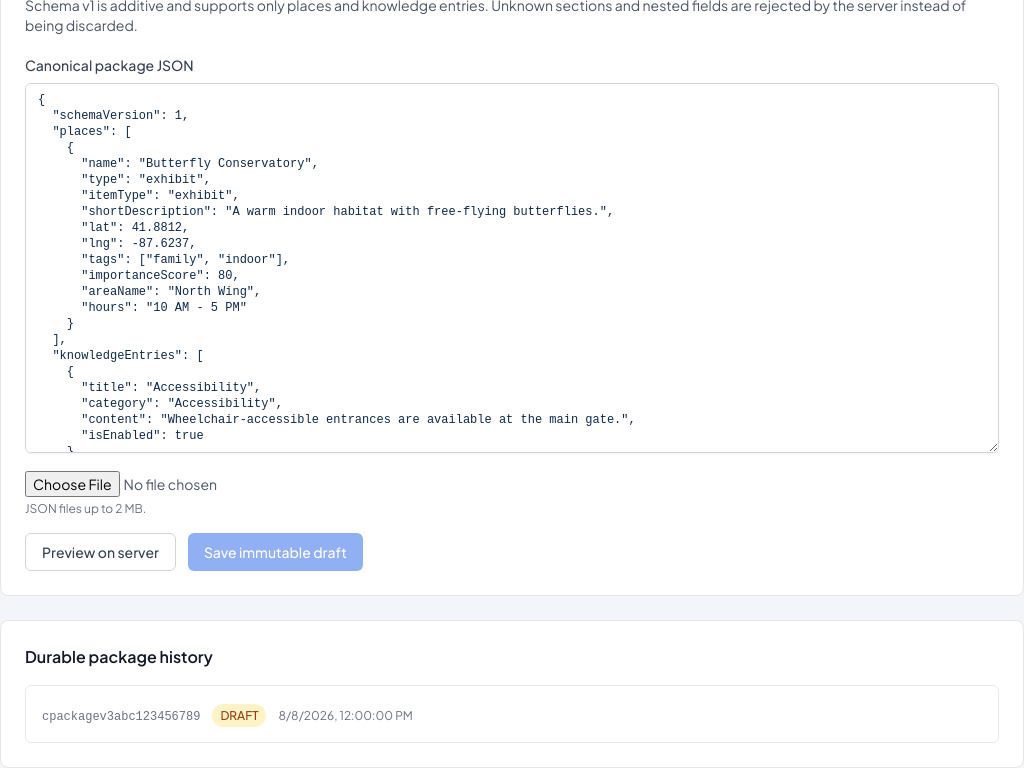
Test: venue package workspace › renders the complete saved V3 mutation plan and immutable review bindings
The width and height of the screenshot is (1024, 768).
(page scrolled)
Click the text "cpackagev3abc123456789" at [121, 717], box [42, 710, 200, 724]
(page scrolled)
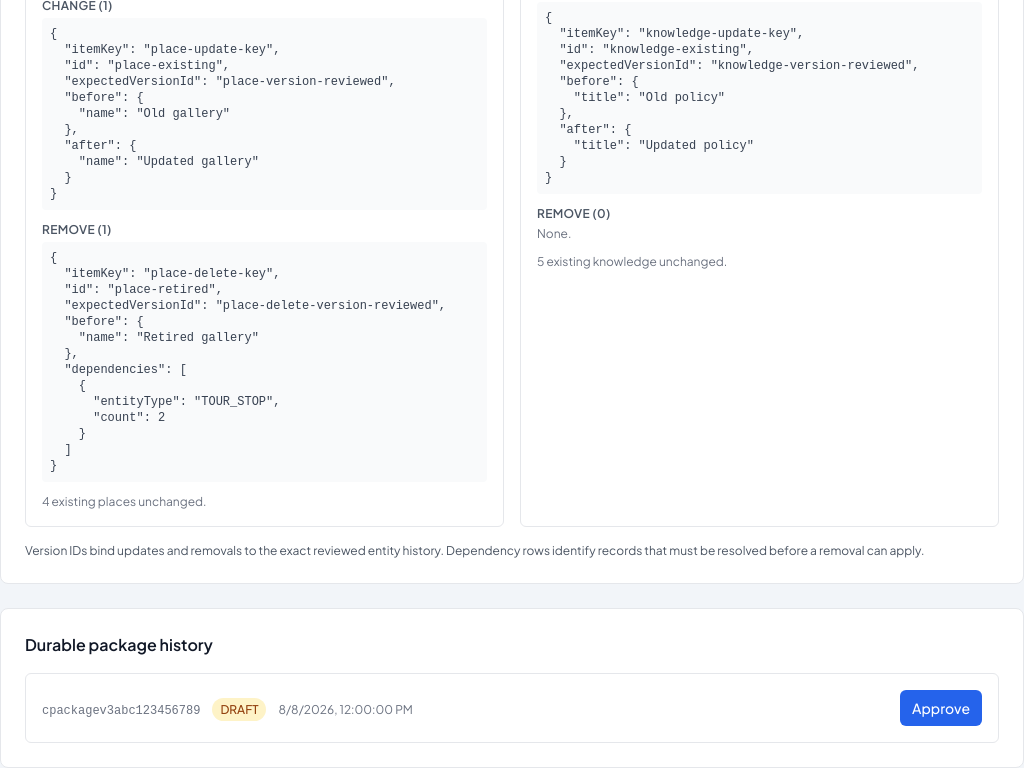
Expected: the text "\"expectedVersionId\": \"place-version-reviewed\"" is shown, [50, 27, 396, 201]
Expected: the text "\"entityType\": \"TOUR_STOP\"" is shown, [50, 251, 446, 473]
Expected: the text "\"expectedVersionId\": \"knowledge-version-reviewed\"" is shown, [545, 11, 920, 185]
